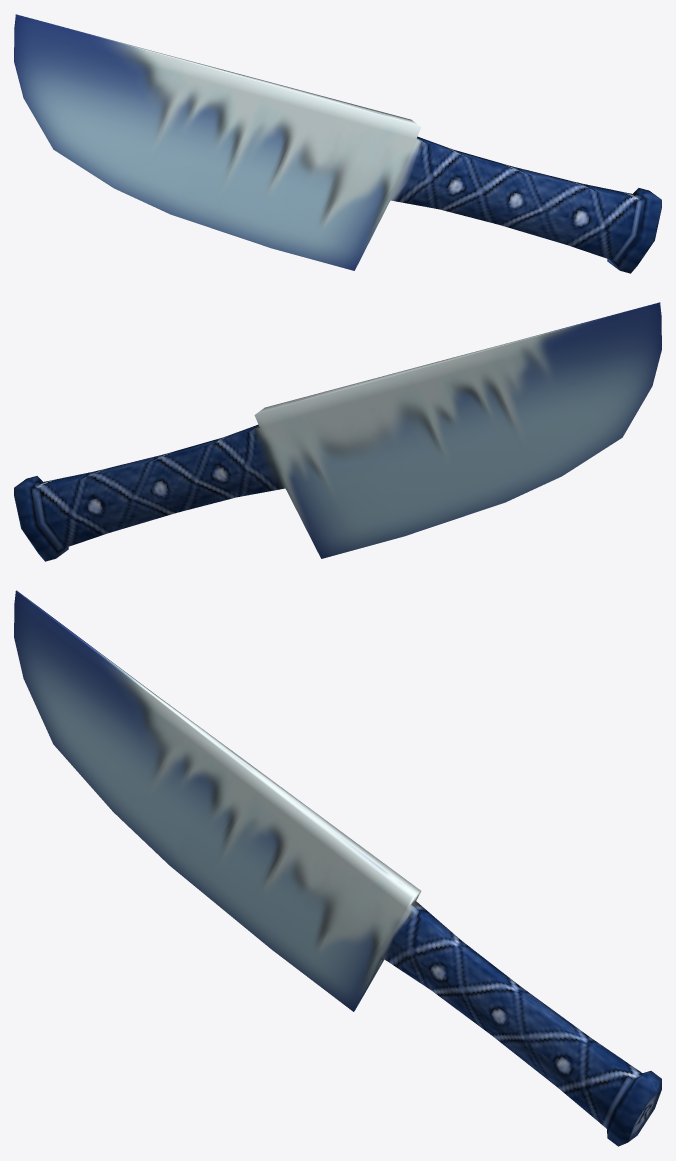
Rendered from IceBlade.fbx.
3 views of the same model, one above another, from view 1: azimuth 30°, elevation 25°; view 2: azimuth 150°, elevation 25°; view 3: azimuth 330°, elevation 25° (orthographic).
Parts seen in each view (by area): view 1: knife_mesh; view 2: knife_mesh; view 3: knife_mesh.
Boxes of the visible parts, <box> form: knife_mesh: <box>14,14,661,273</box>; knife_mesh: <box>14,302,661,561</box>; knife_mesh: <box>14,590,661,1146</box>.
Bounding box in the file's own units: 1.45 × 0.8681 × 0.0998.
Materials: 1 (1 with a texture image).
